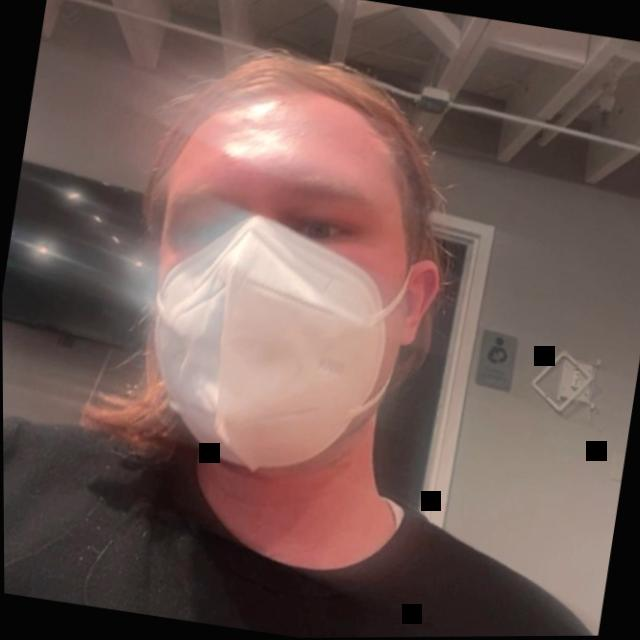Mask: (65, 22, 539, 608)
